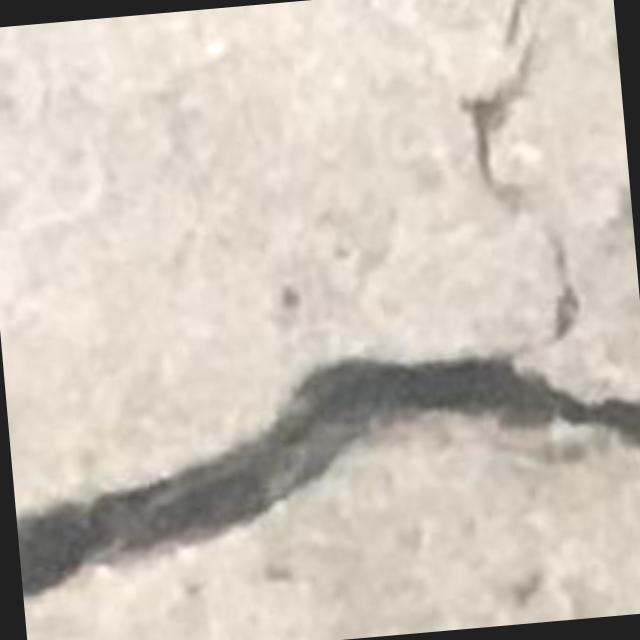crack: (16, 346, 639, 596)
